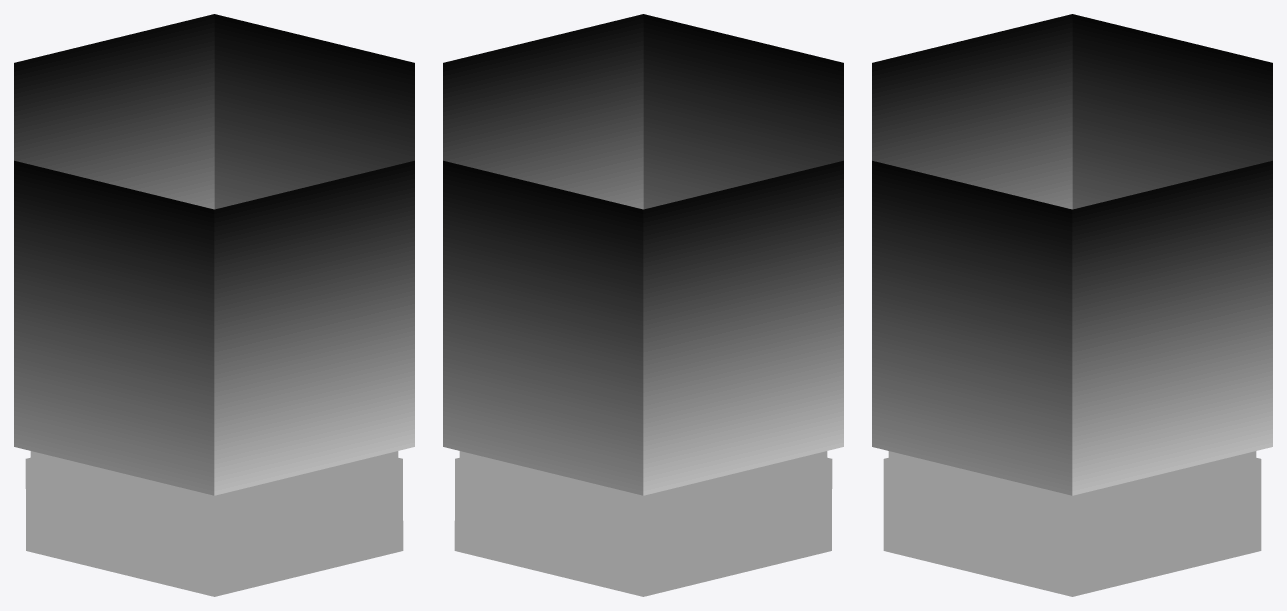
File: CharacterButton.fbx
The picture shows the model from 3 angles, left to right: view 1: azimuth 30°, elevation 25°; view 2: azimuth 150°, elevation 25°; view 3: azimuth 270°, elevation 25°; orthographic projection.
Parts seen in each view (by area): view 1: GlowCylinder1, ThrowIndicator1, ButtonFace; view 2: GlowCylinder1, ThrowIndicator1, ButtonFace; view 3: GlowCylinder1, ThrowIndicator1, ButtonFace.
Part boxes in pixels (bbox=[...]): GlowCylinder1: bbox=[14, 14, 414, 495]; ThrowIndicator1: bbox=[25, 457, 403, 596]; ButtonFace: bbox=[30, 451, 398, 504]; GlowCylinder1: bbox=[443, 14, 843, 495]; ThrowIndicator1: bbox=[454, 457, 832, 596]; ButtonFace: bbox=[459, 451, 827, 504]; GlowCylinder1: bbox=[872, 14, 1272, 495]; ThrowIndicator1: bbox=[883, 458, 1261, 596]; ButtonFace: bbox=[888, 451, 1256, 504].
Bounding box in the file's own units: 4.15 × 3.89 × 3.59.
4 materials, 2 textured.
